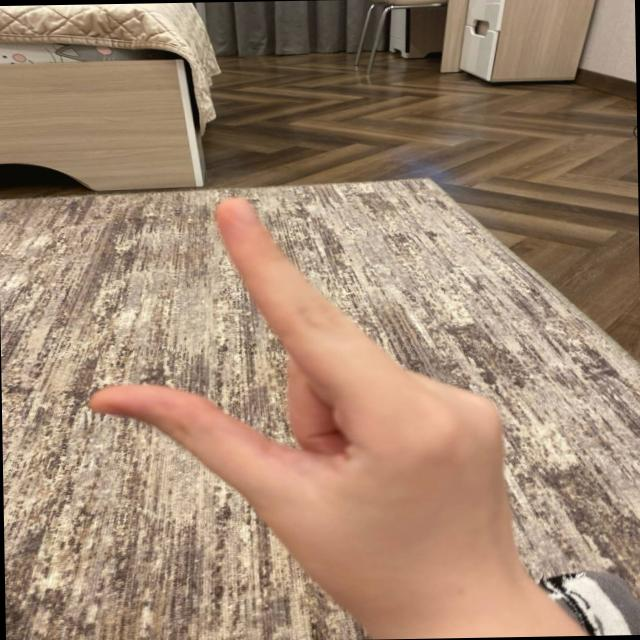-: (77, 174, 588, 563)
